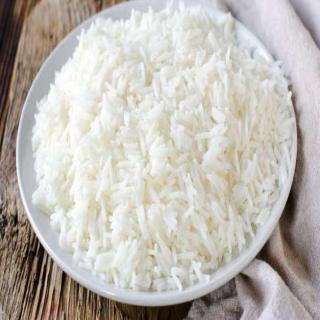Nasi: (31, 4, 293, 294)
